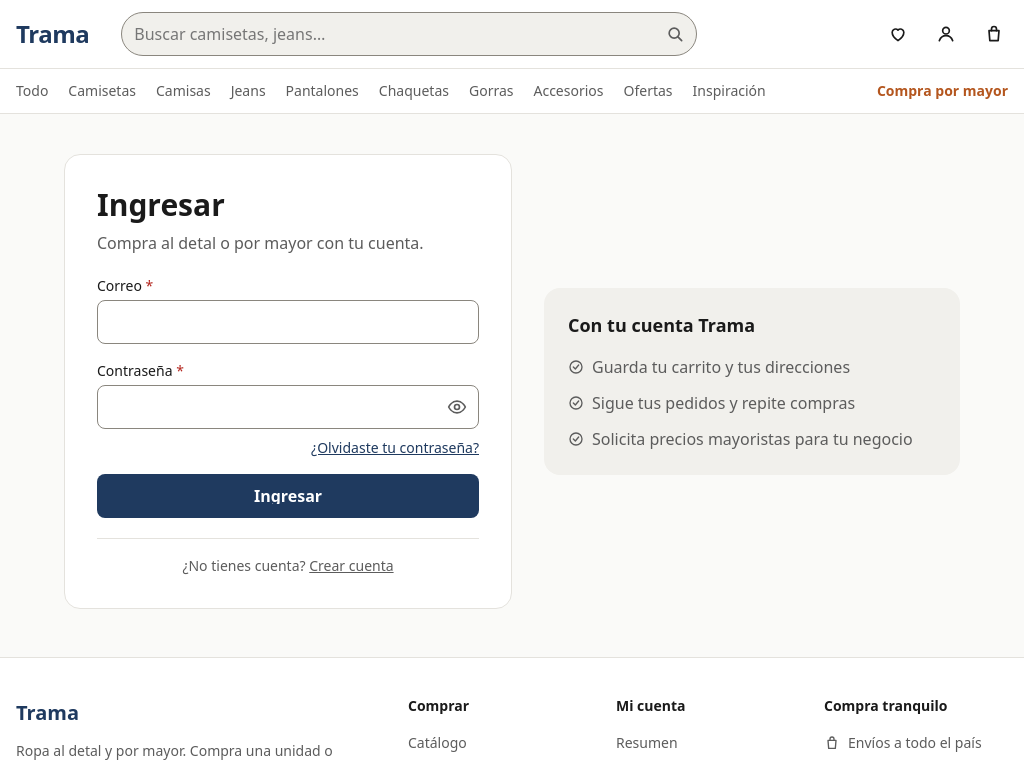
App › lleva al mayorista a su panel
Type "mayorista@trama.test" into the field labelled "Correo *" at (288, 322), box [97,300,479,344]
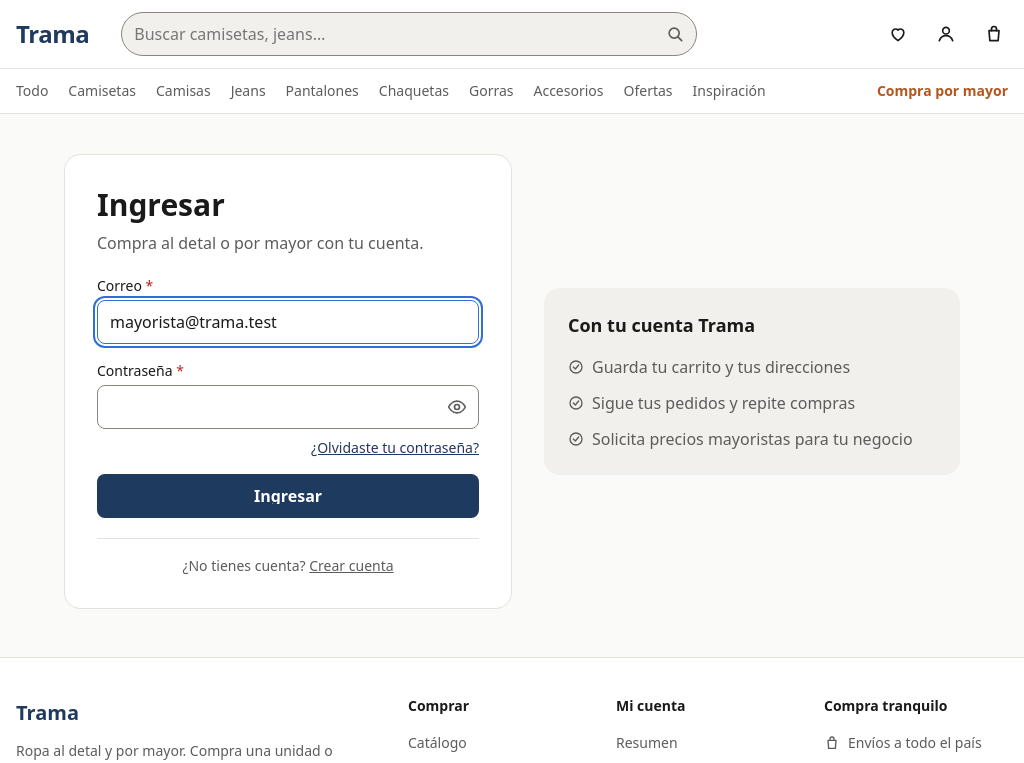
Type "Trama1234" into the password field labelled "Contraseña *" at (288, 407), box [97,385,479,429]
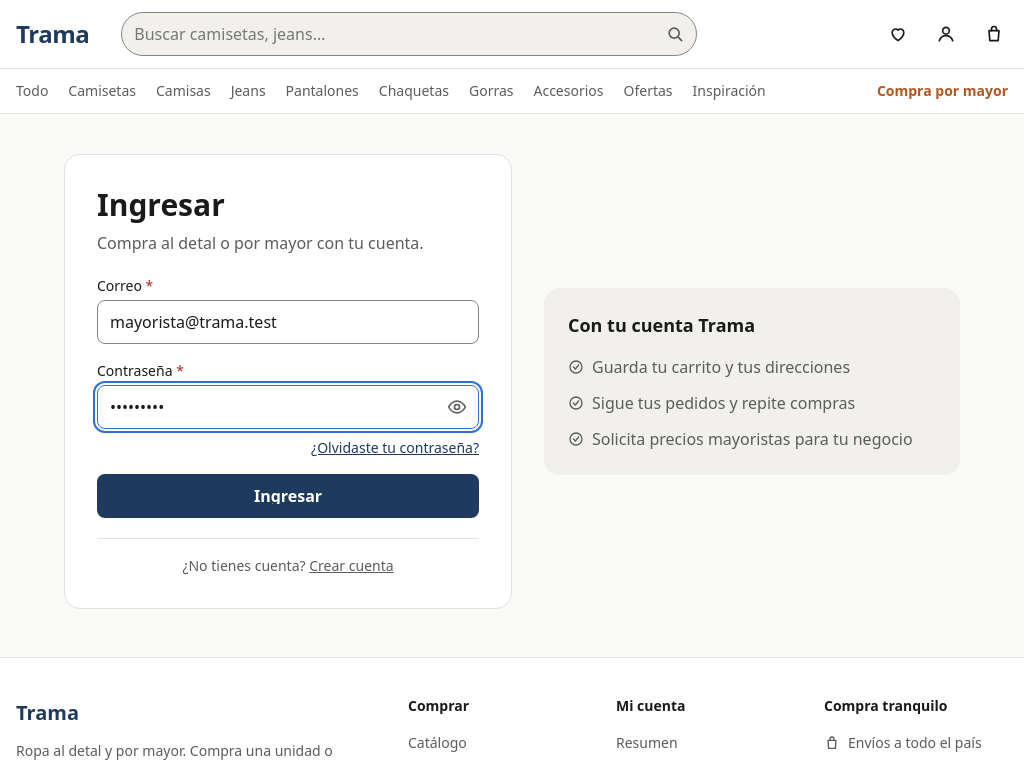
Click the button "Ingresar" at (288, 496), box [97,474,479,518]
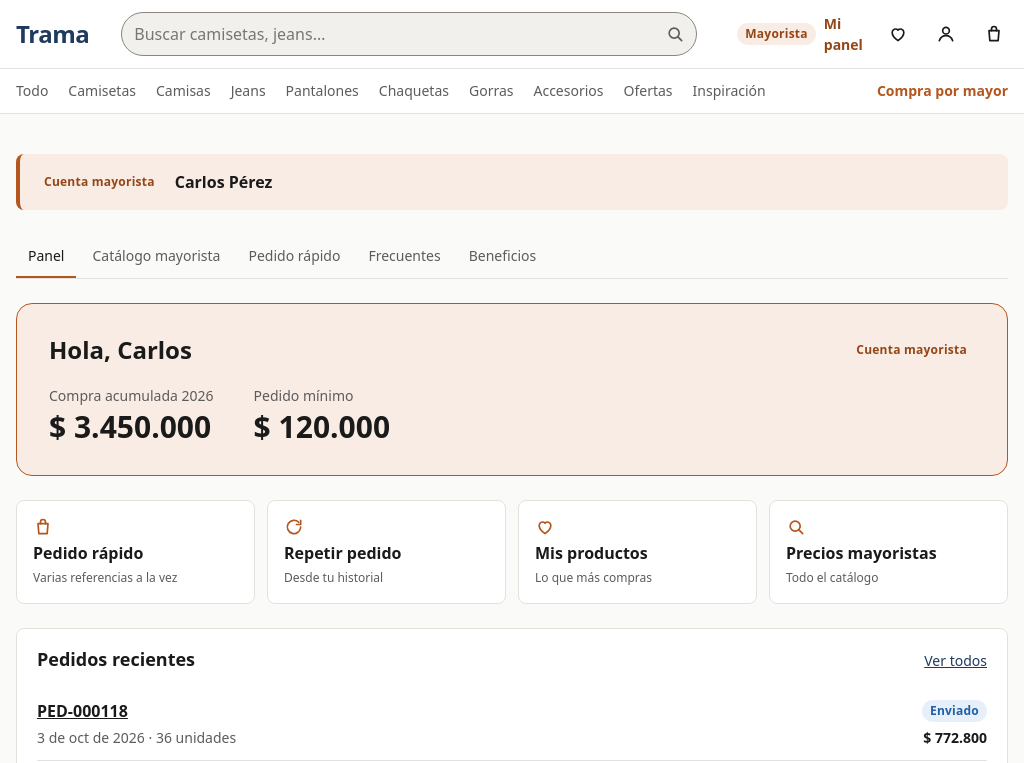
Now the heading "Hola, Carlos" is shown, box [49,336,192,365]
